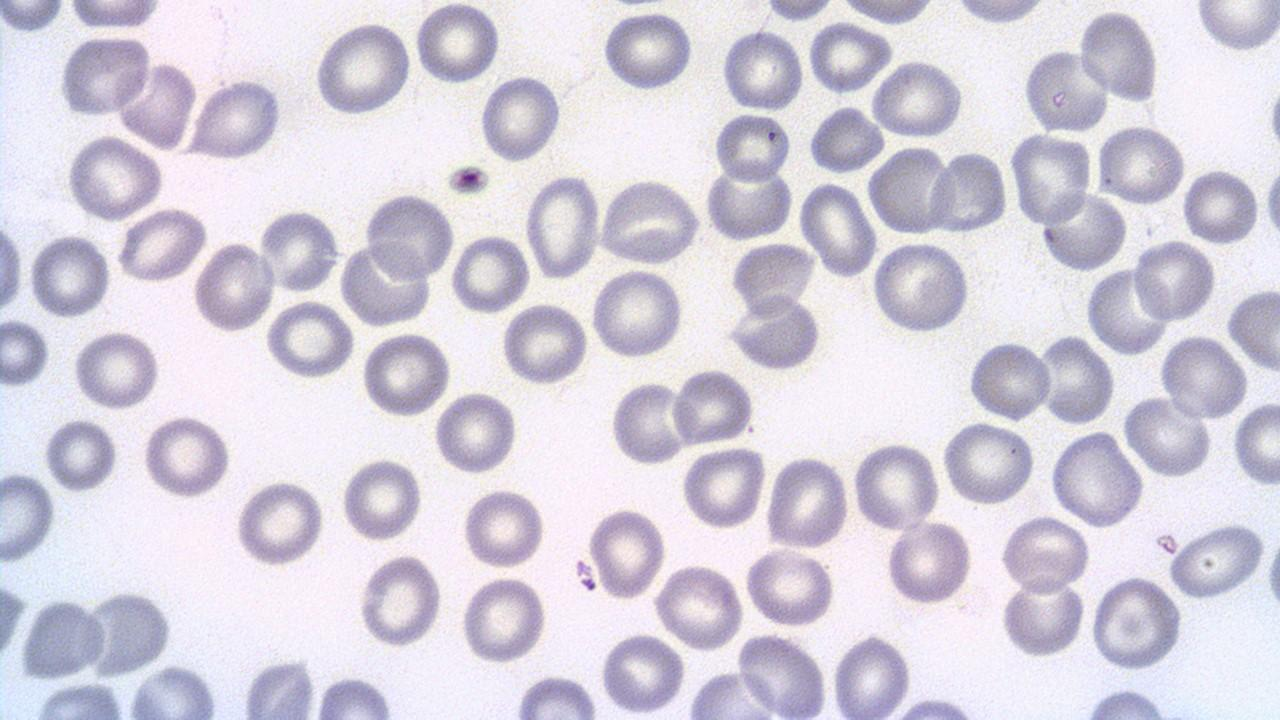Platelets: (444, 161, 490, 199), (1267, 85, 1280, 154)
RBC: (311, 17, 412, 118), (870, 238, 974, 336), (596, 175, 703, 266), (1047, 428, 1145, 527), (1088, 576, 1184, 672), (589, 267, 688, 360), (336, 238, 436, 327), (62, 134, 165, 220), (850, 438, 942, 532), (358, 330, 454, 419), (524, 173, 602, 282), (866, 142, 955, 237), (356, 552, 444, 648), (234, 478, 326, 569), (459, 572, 548, 666), (798, 178, 879, 281), (364, 191, 456, 281), (884, 516, 974, 608), (57, 33, 153, 119), (764, 454, 850, 550), (599, 7, 696, 92), (186, 77, 284, 161), (1010, 129, 1092, 229), (1022, 44, 1111, 136), (942, 420, 1037, 506), (191, 239, 277, 334), (1083, 264, 1171, 356), (653, 562, 745, 650), (498, 300, 590, 387), (140, 414, 233, 500), (743, 544, 836, 630), (1167, 522, 1269, 600), (412, 0, 503, 87), (736, 632, 828, 718), (1079, 8, 1161, 104), (586, 504, 666, 602), (432, 388, 519, 477), (1158, 334, 1248, 420), (701, 157, 793, 241), (478, 72, 562, 164), (726, 293, 825, 371), (18, 594, 107, 680), (1038, 188, 1128, 273), (869, 59, 965, 138), (680, 445, 767, 532), (966, 337, 1053, 424), (1038, 330, 1116, 427), (598, 630, 688, 714), (340, 454, 424, 544), (1121, 395, 1213, 477), (262, 300, 356, 380), (997, 575, 1085, 660), (28, 231, 112, 320), (720, 26, 805, 113), (1132, 236, 1216, 324), (830, 630, 913, 719), (258, 206, 340, 296), (1096, 124, 1186, 206), (70, 330, 161, 411), (113, 208, 209, 284), (461, 485, 546, 570), (116, 61, 197, 149), (671, 364, 755, 448), (1002, 514, 1090, 594), (930, 146, 1009, 235), (609, 377, 687, 466), (730, 238, 818, 316), (805, 19, 893, 96), (448, 232, 530, 314), (1182, 164, 1260, 247), (44, 416, 120, 494), (712, 110, 790, 184), (0, 469, 57, 565), (806, 106, 882, 174), (126, 662, 218, 716), (1225, 286, 1279, 376), (1193, 1, 1279, 56), (240, 657, 317, 718), (1232, 400, 1280, 486), (512, 674, 600, 718), (33, 679, 128, 719), (314, 674, 398, 718), (0, 315, 50, 388), (64, 0, 164, 31), (832, 0, 942, 27), (950, 0, 1050, 26), (0, 216, 24, 318), (0, 574, 26, 664), (0, 0, 68, 34), (758, 0, 836, 23)
